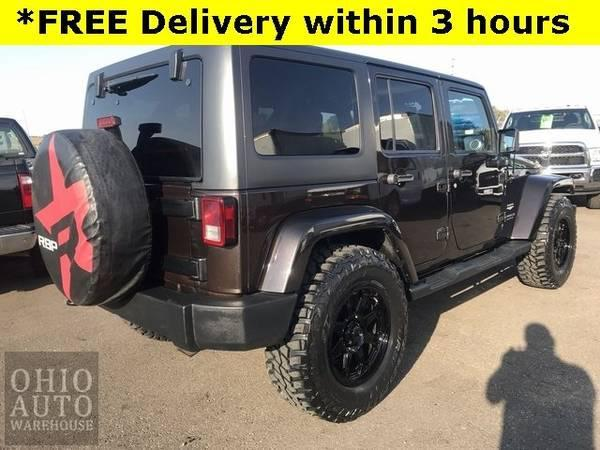Front_Fender: (499, 163, 573, 239)
Front_Right_Door: (448, 161, 508, 267)
Front_Right_Window: (436, 87, 502, 162)
Rear_Bumper: (110, 290, 302, 349)
Rear_Fender: (206, 49, 418, 290)
Rear_Right_Door: (377, 162, 457, 284)
Rear_Right_Window: (362, 74, 444, 164)
Rear_Windshield: (82, 58, 201, 183)
Right_Taillight: (200, 190, 243, 247)
Roof: (82, 37, 509, 184)
Tailgate: (145, 183, 205, 291)
Wheel: (267, 241, 413, 421), (31, 130, 151, 313), (516, 190, 577, 287)
